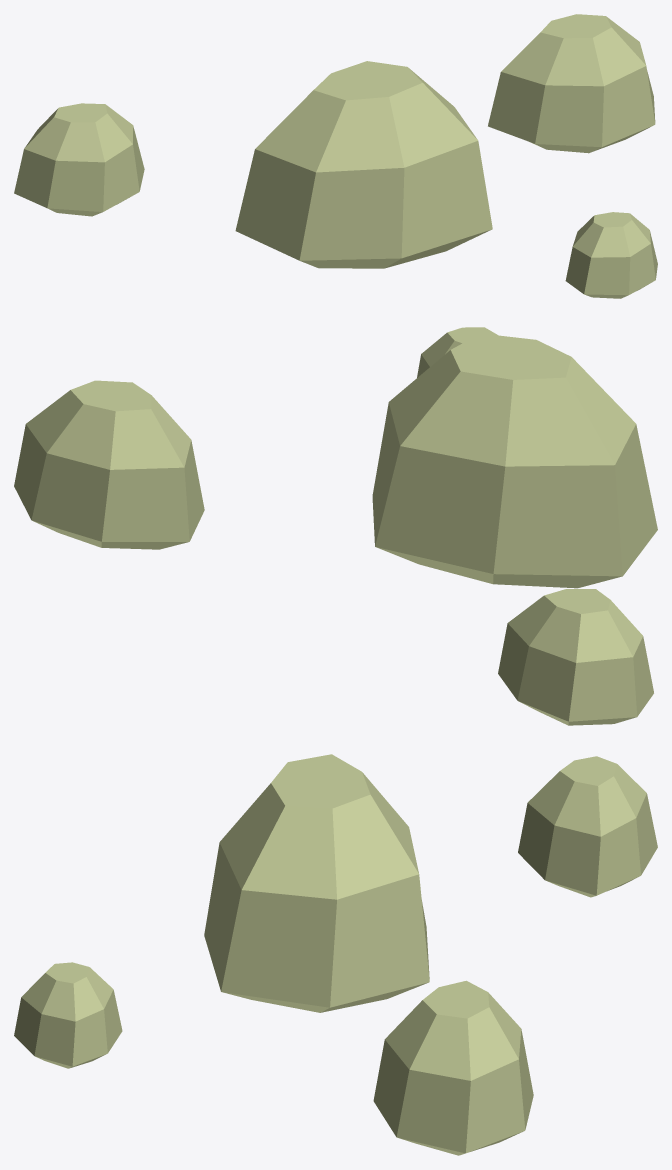
File: pebbles-pale.glb
3 views of the same model, one above another, from view 1: azimuth 30°, elevation 25°; view 2: azimuth 150°, elevation 25°; view 3: azimuth 270°, elevation 25° (orthographic). The views are drawn at different scales.
Visible parts, largest first — view 1: pebbles-pale; view 2: pebbles-pale; view 3: pebbles-pale.
Part boxes in pixels (box(x1,y1,x2,y2)): pebbles-pale: box(14, 14, 657, 298); pebbles-pale: box(14, 327, 657, 725); pebbles-pale: box(14, 754, 657, 1155).
Size of the model in its own units: 1.25 by 0.3312 by 1.02.
